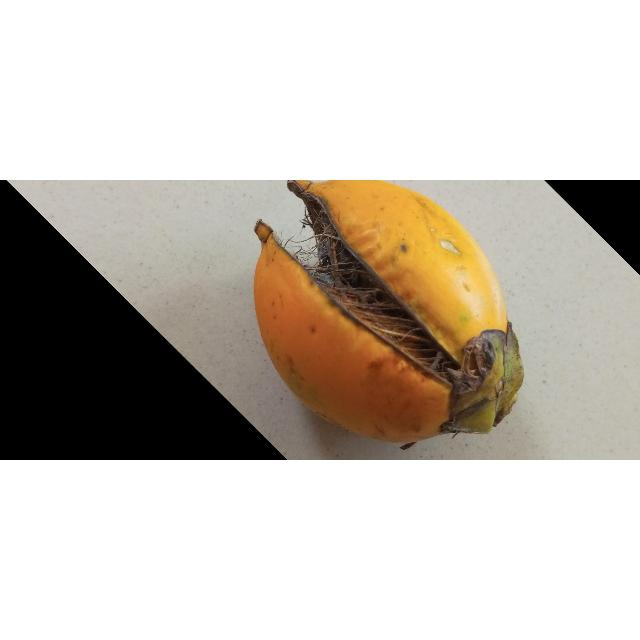damaged: (253, 180, 522, 446)
